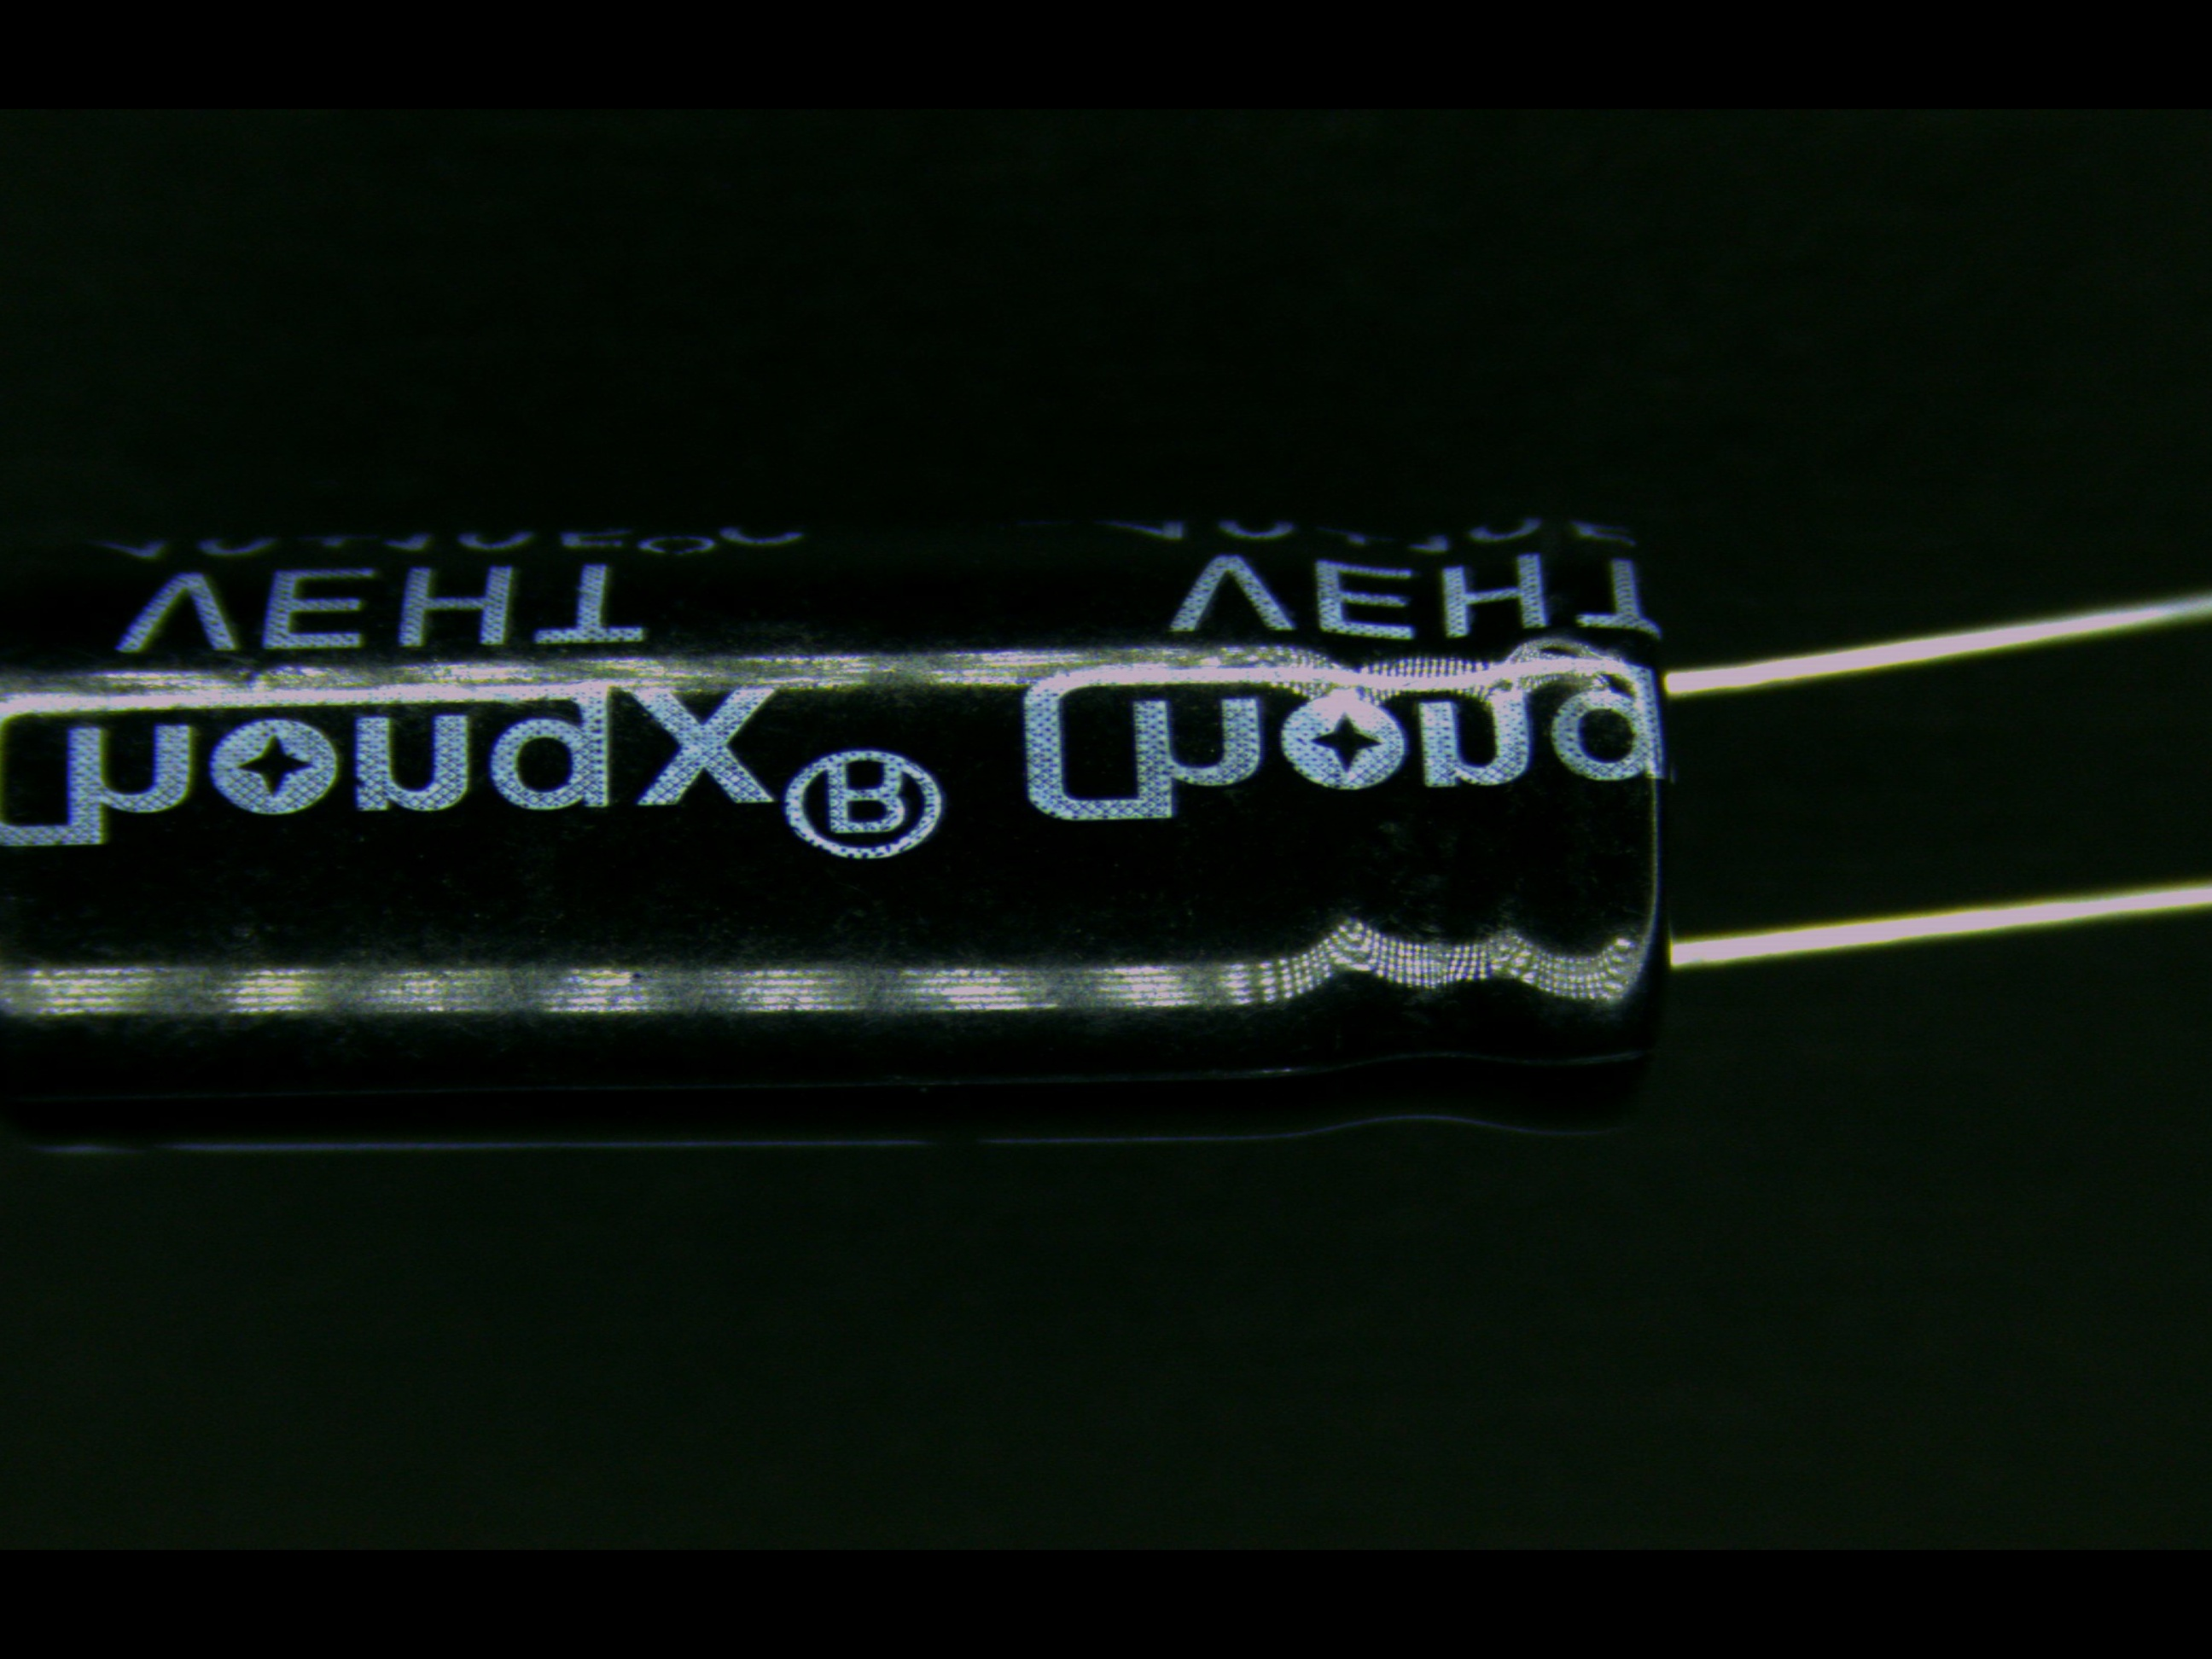c3: (0, 507, 1989, 1154)
